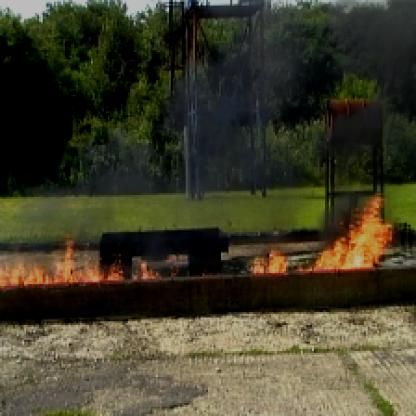Fire: (241, 193, 394, 277), (2, 236, 174, 286)
Smoke: (69, 43, 290, 206), (331, 2, 414, 165)
